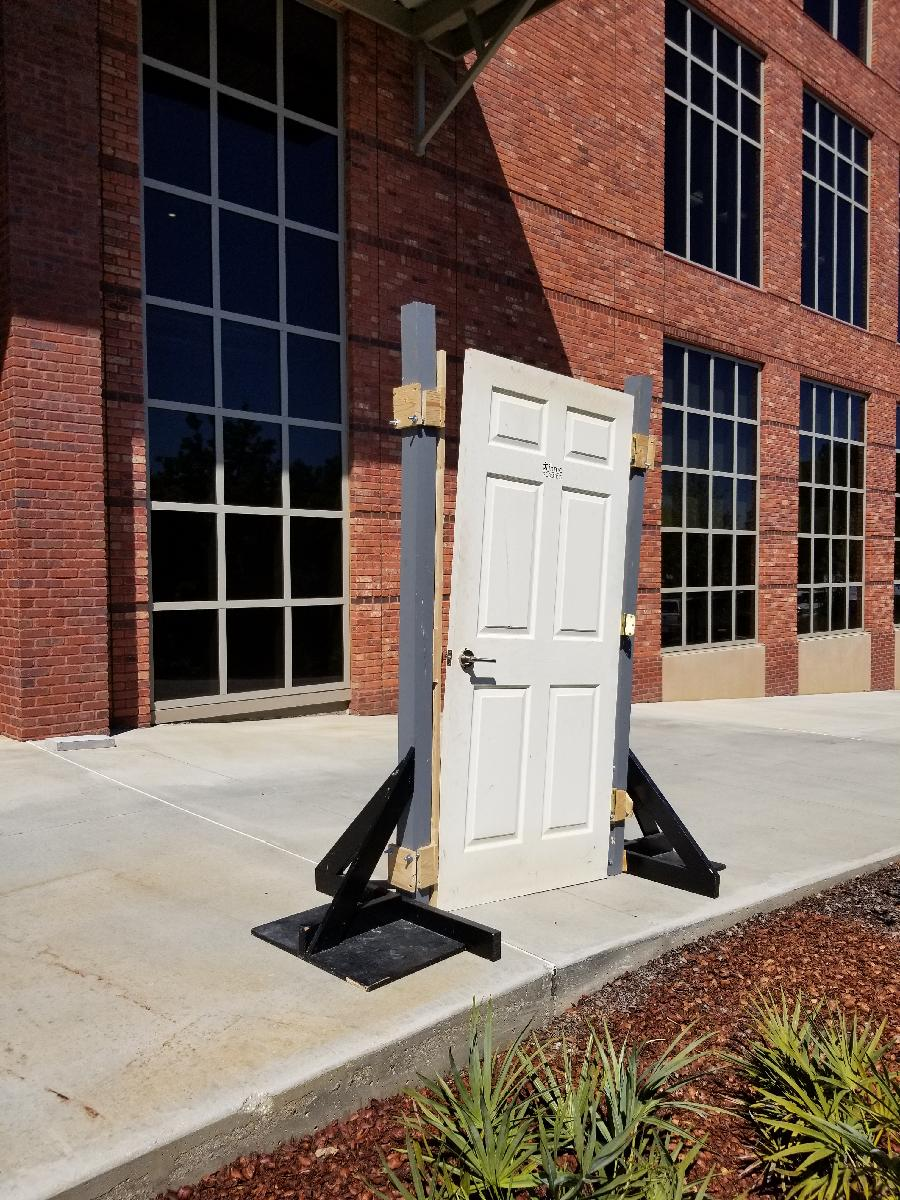door: (420, 342, 636, 923)
doorHandle: (456, 646, 502, 677)
